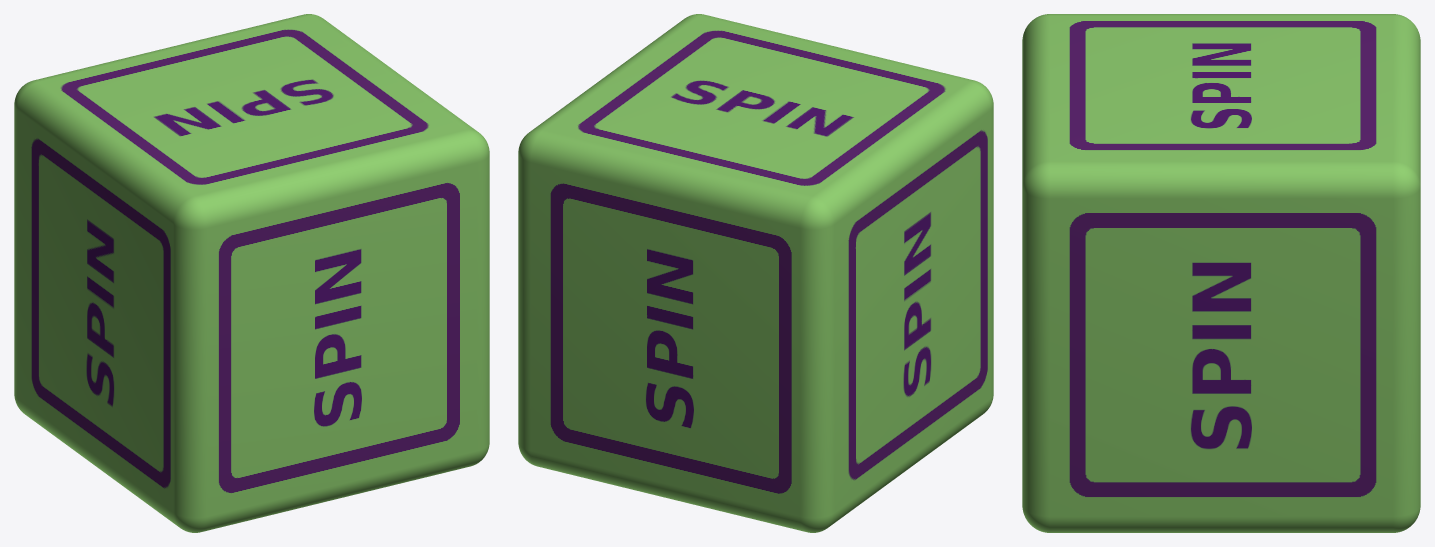
The model's file is PlayButtonSmooth.fbx.
3 views of the same model, side by side, from view 1: azimuth 30°, elevation 25°; view 2: azimuth 150°, elevation 25°; view 3: azimuth 270°, elevation 25° (orthographic). The views are drawn at different scales.
Visible parts, largest first — view 1: Cube; view 2: Cube; view 3: Cube.
Boxes of the visible parts, x1,y1,x2,y2 form: Cube: (14, 14, 489, 532); Cube: (518, 14, 993, 532); Cube: (1022, 14, 1420, 532).
Size of the model in its own units: 200 by 204 by 200.
